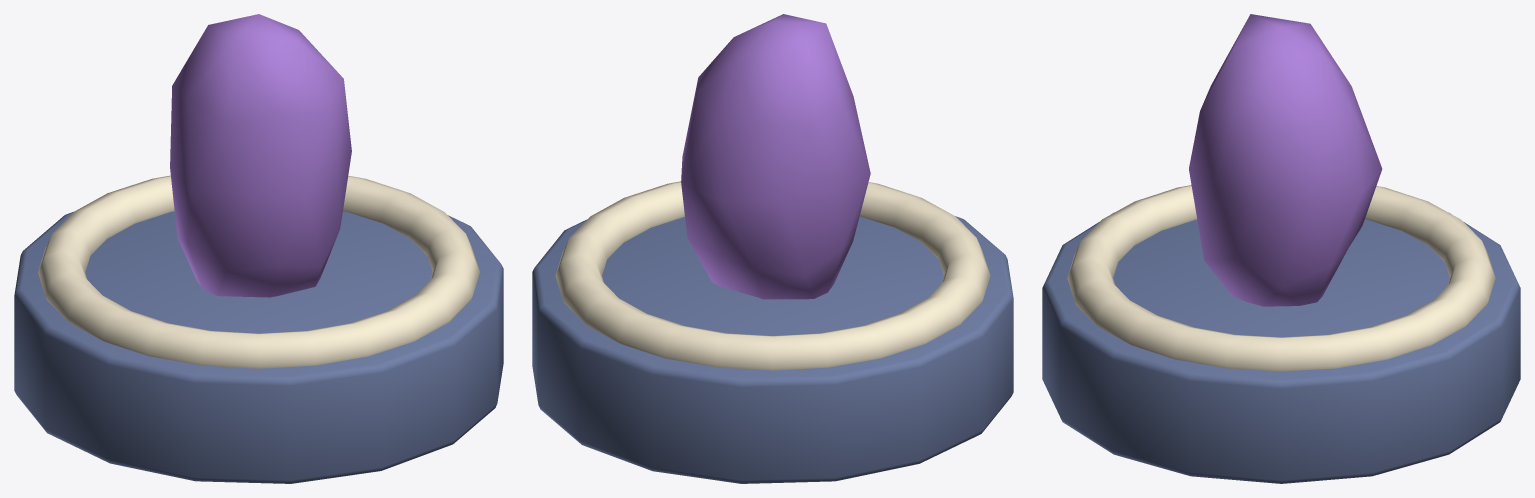
File: r058_dungeon_crystal_pads_crystal_pad_02.glb
3 views of the same model, side by side, from view 1: azimuth 30°, elevation 25°; view 2: azimuth 150°, elevation 25°; view 3: azimuth 270°, elevation 25° (orthographic). The views are drawn at different scales.
Parts seen in each view (by area): view 1: r058_dungeon_crystal_pads_crystal_pad_02.001; view 2: r058_dungeon_crystal_pads_crystal_pad_02.001; view 3: r058_dungeon_crystal_pads_crystal_pad_02.001.
Boxes of the visible parts, bbox=[...] form: r058_dungeon_crystal_pads_crystal_pad_02.001: bbox=[14, 14, 503, 483]; r058_dungeon_crystal_pads_crystal_pad_02.001: bbox=[532, 14, 1013, 483]; r058_dungeon_crystal_pads_crystal_pad_02.001: bbox=[1042, 14, 1520, 483].
Bounding box in the file's own units: 2.5 × 2.06 × 2.5.
